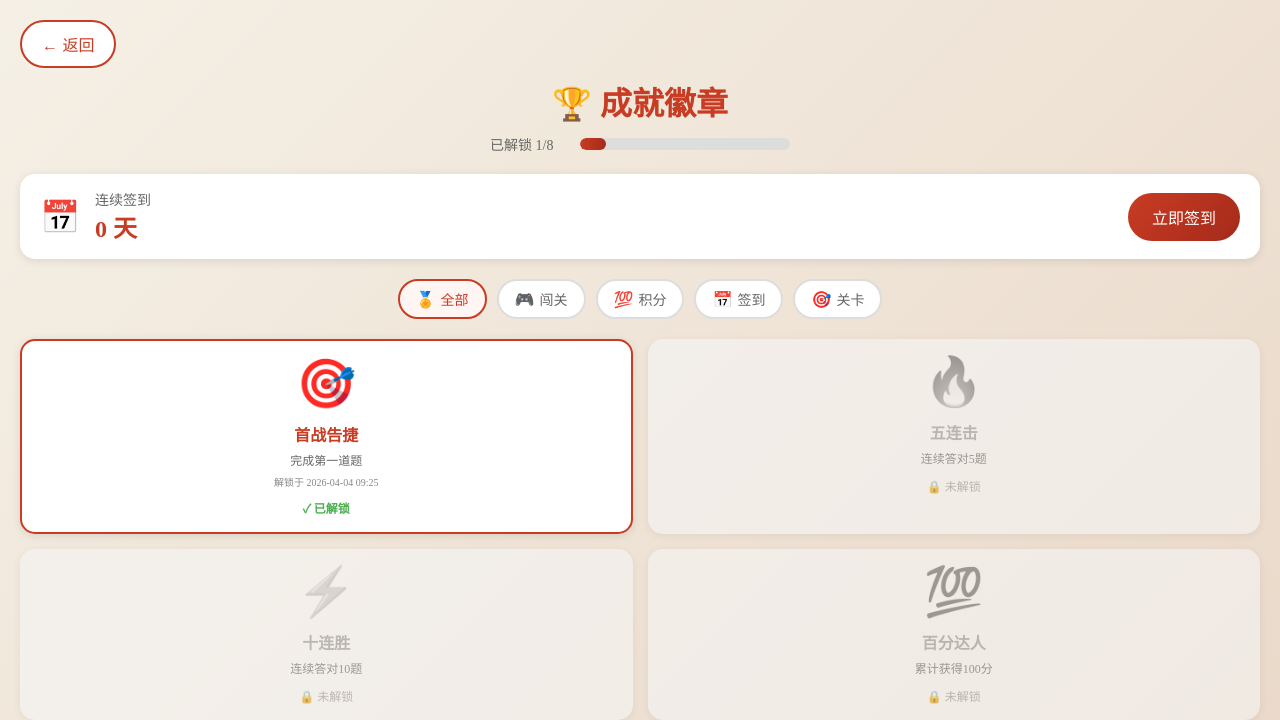
Achievements Component › achievement details modal › should close modal when close button clicked
What coordinates should you click on to do the following:
click the text "首战告捷"
I would click on:
 (326, 456)
Its box is [274,422,378,489].
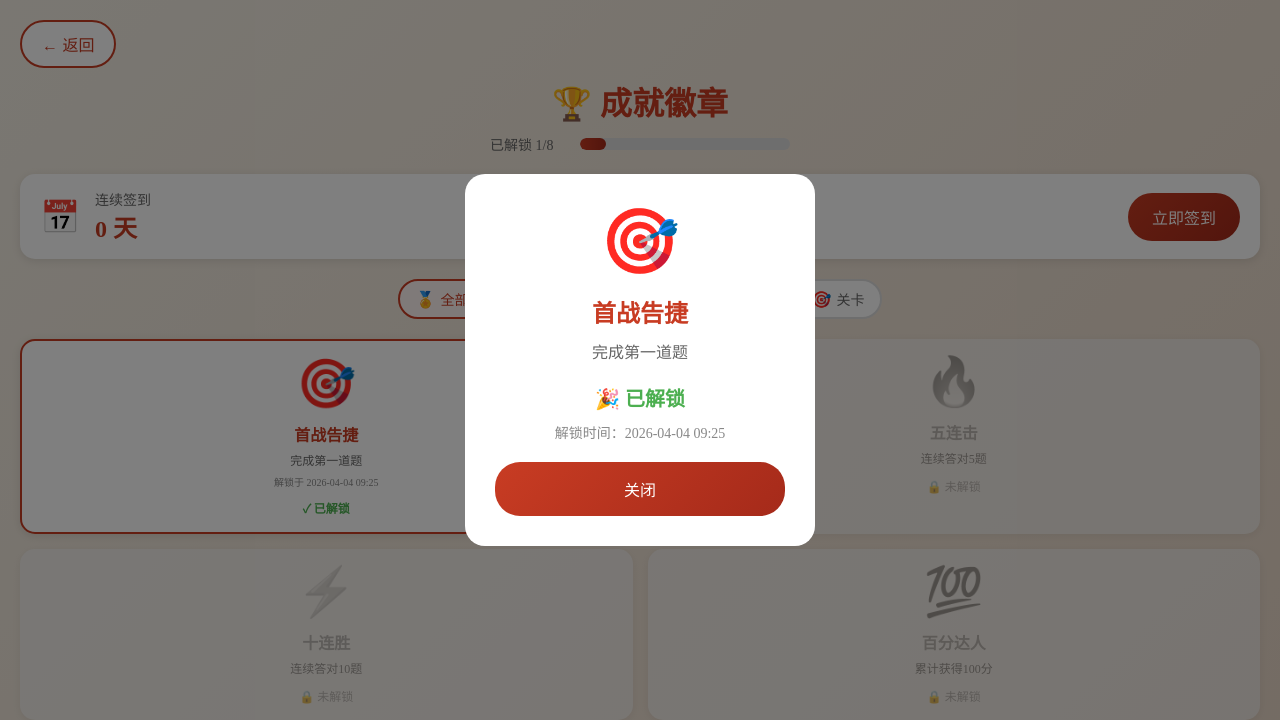
Expected: the button "关闭" is shown
What coordinates should you click on to do the following:
click the button "关闭"
I would click on:
 (640, 489)
Its box is [495,462,785,516].
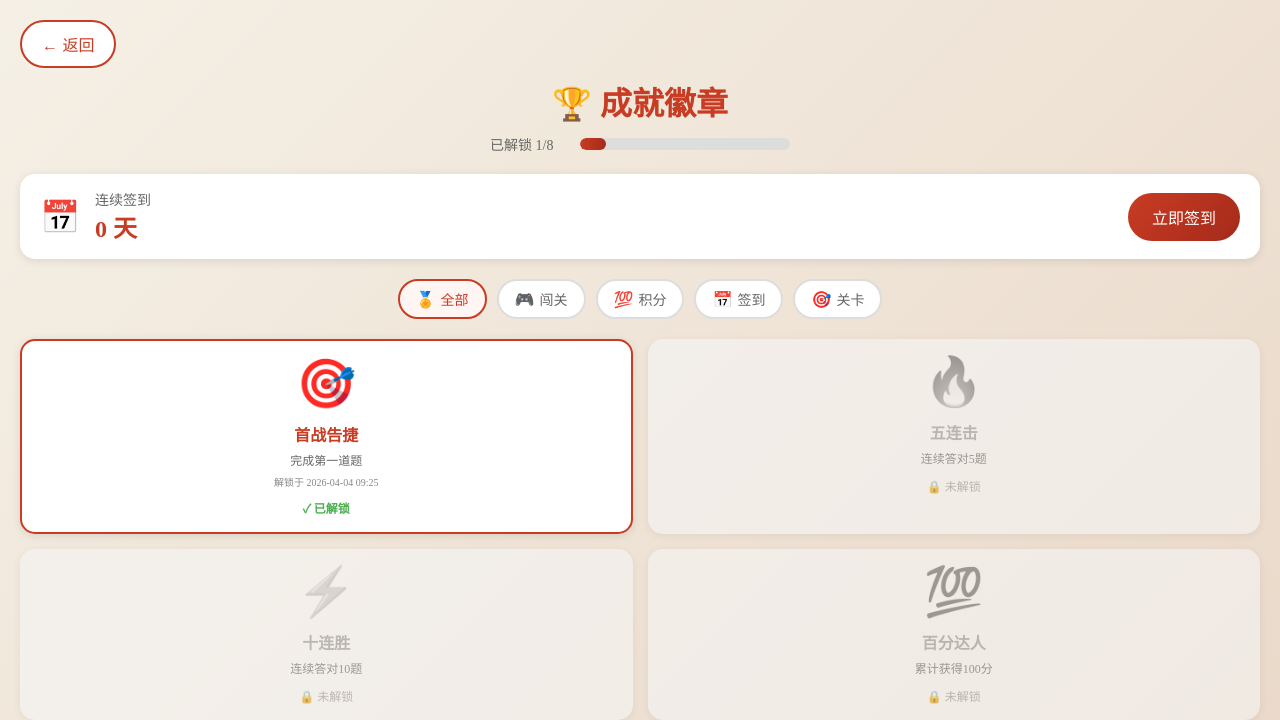
Expected: the button "关闭" is gone
